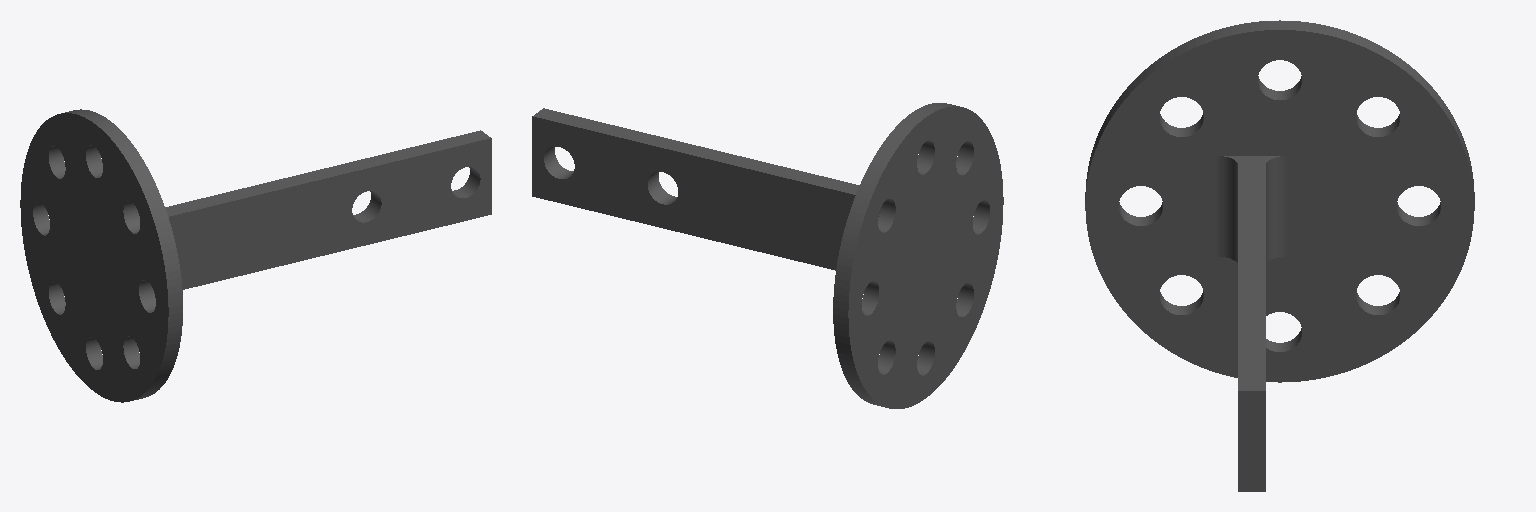
robot.urdf — iiwa14_camera:
<?xml version="1.0" ?>
<!-- =================================================================================== -->
<!-- |    This document was autogenerated by xacro from [local-path]/iiwa_stack_ws/src/iiwa_stack/iiwa_tesla/iiwa_tesla_description/urdf/iiwa14_camera.urdf.xacro | -->
<!-- |    EDITING THIS FILE BY HAND IS NOT RECOMMENDED                                 | -->
<!-- =================================================================================== -->
<robot name="iiwa14_camera">
    <material name="Black">
        <color rgba="0.0 0.0 0.0 1.0" />
    </material>
    <material name="Blue">
        <color rgba="0.0 0.0 0.8 1.0" />
    </material>
    <material name="Green">
        <color rgba="0.0 0.8 0.0 1.0" />
    </material>
    <material name="Grey">
        <color rgba="0.4 0.4 0.4 1.0" />
    </material>
    <material name="Orange">
        <color rgba="1.0 0.4235294117647059 0.0392156862745098 1.0" />
    </material>
    <material name="Brown">
        <color rgba="0.8705882352941177 0.8117647058823529 0.7647058823529411 1.0" />
    </material>
    <material name="Red">
        <color rgba="0.8 0.0 0.0 1.0" />
    </material>
    <material name="White">
        <color rgba="1.0 1.0 1.0 1.0" />
    </material>
    <!-- Fix to world just for testing -->
    <link name="world" />
    <!-- Gazebo world -->
    <gazebo reference="world">
        <static>true</static>
        <plugin name="gazebo_ros_control">
            <robotNamespace>/</robotNamespace>
        </plugin>
    </gazebo>
    <!--joint between {parent} and link_0-->
    <joint name="world_iiwa_joint" type="fixed">
        <origin rpy="0 0 0" xyz="0 0 0" />
        <parent link="world" />
        <child link="iiwa_link_0" />
    </joint>
    <link name="iiwa_link_0">
        <inertial>
            <origin rpy="0 0 0" xyz="-0.1 0 0.07" />
            <mass value="5" />
            <inertia ixx="0.05" ixy="0" ixz="0" iyy="0.06" iyz="0" izz="0.03" />
        </inertial>
        <visual>
            <origin rpy="0 0 0" xyz="0 0 0" />
            <geometry>
                <mesh filename="package://iiwa_tesla_description/meshes/iiwa14/visual/link_0.stl" />
            </geometry>
            <material name="Grey" />
        </visual>
        <collision>
            <origin rpy="0 0 0" xyz="0 0 0" />
            <geometry>
                <mesh filename="package://iiwa_tesla_description/meshes/iiwa14/collision/link_0.stl" />
            </geometry>
            <material name="Grey" />
        </collision>
        <self_collision_checking>
            <origin rpy="0 0 0" xyz="0 0 0" />
            <geometry>
                <capsule length="0.25" radius="0.15" />
            </geometry>
        </self_collision_checking>
    </link>
    <!-- joint between link_0 and link_1 -->
    <joint name="iiwa_joint_1" type="revolute">
        <parent link="iiwa_link_0" />
        <child link="iiwa_link_1" />
        <origin rpy="0 0 0" xyz="0 0 0.1575" />
        <axis xyz="0 0 1" />
        <limit effort="300" lower="-2.9670597283903604" upper="2.9670597283903604" velocity="10" />
        <safety_controller k_position="100" k_velocity="2" soft_lower_limit="-2.9321531433504737" soft_upper_limit="2.9321531433504737" />
        <dynamics damping="0.5" />
    </joint>
    <link name="iiwa_link_1">
        <inertial>
            <origin rpy="0 0 0" xyz="0 -0.03 0.12" />
            <mass value="4" />
            <inertia ixx="0.1" ixy="0" ixz="0" iyy="0.09" iyz="0" izz="0.02" />
        </inertial>
        <visual>
            <origin rpy="0 0 0" xyz="0 0 0" />
            <geometry>
                <mesh filename="package://iiwa_tesla_description/meshes/iiwa14/visual/link_1.stl" />
            </geometry>
            <material name="Orange" />
        </visual>
        <collision>
            <origin rpy="0 0 0" xyz="0 0 0" />
            <geometry>
                <mesh filename="package://iiwa_tesla_description/meshes/iiwa14/collision/link_1.stl" />
            </geometry>
            <material name="Orange" />
        </collision>
    </link>
    <!-- joint between link_1 and link_2 -->
    <joint name="iiwa_joint_2" type="revolute">
        <parent link="iiwa_link_1" />
        <child link="iiwa_link_2" />
        <origin rpy="1.5707963267948966   0 3.141592653589793" xyz="0 0 0.2025" />
        <axis xyz="0 0 1" />
        <limit effort="300" lower="-2.0943951023931953" upper="2.0943951023931953" velocity="10" />
        <safety_controller k_position="100" k_velocity="2" soft_lower_limit="-2.0594885173533086" soft_upper_limit="2.0594885173533086" />
        <dynamics damping="0.5" />
    </joint>
    <link name="iiwa_link_2">
        <inertial>
            <origin rpy="0 0 0" xyz="0.0003 0.059 0.042" />
            <mass value="4" />
            <inertia ixx="0.05" ixy="0" ixz="0" iyy="0.018" iyz="0" izz="0.044" />
        </inertial>
        <visual>
            <origin rpy="0 0 0" xyz="0 0 0" />
            <geometry>
                <mesh filename="package://iiwa_tesla_description/meshes/iiwa14/visual/link_2.stl" />
            </geometry>
            <material name="Orange" />
        </visual>
        <collision>
            <origin rpy="0 0 0" xyz="0 0 0" />
            <geometry>
                <mesh filename="package://iiwa_tesla_description/meshes/iiwa14/collision/link_2.stl" />
            </geometry>
            <material name="Orange" />
        </collision>
    </link>
    <!-- joint between link_2 and link_3 -->
    <joint name="iiwa_joint_3" type="revolute">
        <parent link="iiwa_link_2" />
        <child link="iiwa_link_3" />
        <origin rpy="1.5707963267948966 0 3.141592653589793" xyz="0 0.2045 0" />
        <axis xyz="0 0 1" />
        <limit effort="300" lower="-2.9670597283903604" upper="2.9670597283903604" velocity="10" />
        <safety_controller k_position="100" k_velocity="2" soft_lower_limit="-2.9321531433504737" soft_upper_limit="2.9321531433504737" />
        <dynamics damping="0.5" />
    </joint>
    <link name="iiwa_link_3">
        <inertial>
            <origin rpy="0 0 0" xyz="0 0.03 0.13" />
            <mass value="3" />
            <inertia ixx="0.08" ixy="0" ixz="0" iyy="0.075" iyz="0" izz="0.01" />
        </inertial>
        <visual>
            <origin rpy="0 0 0" xyz="0 0 0" />
            <geometry>
                <mesh filename="package://iiwa_tesla_description/meshes/iiwa14/visual/link_3.stl" />
            </geometry>
            <material name="Orange" />
        </visual>
        <collision>
            <origin rpy="0 0 0" xyz="0 0 0" />
            <geometry>
                <mesh filename="package://iiwa_tesla_description/meshes/iiwa14/collision/link_3.stl" />
            </geometry>
            <material name="Orange" />
        </collision>
    </link>
    <!-- joint between link_3 and link_4 -->
    <joint name="iiwa_joint_4" type="revolute">
        <parent link="iiwa_link_3" />
        <child link="iiwa_link_4" />
        <origin rpy="1.5707963267948966 0 0" xyz="0 0 0.2155" />
        <axis xyz="0 0 1" />
        <limit effort="300" lower="-2.0943951023931953" upper="2.0943951023931953" velocity="10" />
        <safety_controller k_position="100" k_velocity="2" soft_lower_limit="-2.0594885173533086" soft_upper_limit="2.0594885173533086" />
        <dynamics damping="0.5" />
    </joint>
    <link name="iiwa_link_4">
        <inertial>
            <origin rpy="0 0 0" xyz="0 0.067 0.034" />
            <mass value="2.7" />
            <inertia ixx="0.03" ixy="0" ixz="0" iyy="0.01" iyz="0" izz="0.029" />
        </inertial>
        <visual>
            <origin rpy="0 0 0" xyz="0 0 0" />
            <geometry>
                <mesh filename="package://iiwa_tesla_description/meshes/iiwa14/visual/link_4.stl" />
            </geometry>
            <material name="Orange" />
        </visual>
        <collision>
            <origin rpy="0 0 0" xyz="0 0 0" />
            <geometry>
                <mesh filename="package://iiwa_tesla_description/meshes/iiwa14/collision/link_4.stl" />
            </geometry>
            <material name="Orange" />
        </collision>
    </link>
    <!-- joint between link_4 and link_5 -->
    <joint name="iiwa_joint_5" type="revolute">
        <parent link="iiwa_link_4" />
        <child link="iiwa_link_5" />
        <origin rpy="-1.5707963267948966 3.141592653589793 0" xyz="0 0.1845 0" />
        <axis xyz="0 0 1" />
        <limit effort="300" lower="-2.9670597283903604" upper="2.9670597283903604" velocity="10" />
        <safety_controller k_position="100" k_velocity="2" soft_lower_limit="-2.9321531433504737" soft_upper_limit="2.9321531433504737" />
        <dynamics damping="0.5" />
    </joint>
    <link name="iiwa_link_5">
        <inertial>
            <origin rpy="0 0 0" xyz="0.0001 0.021 0.076" />
            <mass value="1.7" />
            <inertia ixx="0.02" ixy="0" ixz="0" iyy="0.018" iyz="0" izz="0.005" />
        </inertial>
        <visual>
            <origin rpy="0 0 0" xyz="0 0 0" />
            <geometry>
                <mesh filename="package://iiwa_tesla_description/meshes/iiwa14/visual/link_5.stl" />
            </geometry>
            <material name="Orange" />
        </visual>
        <collision>
            <origin rpy="0 0 0" xyz="0 0 0" />
            <geometry>
                <mesh filename="package://iiwa_tesla_description/meshes/iiwa14/collision/link_5.stl" />
            </geometry>
            <material name="Orange" />
        </collision>
    </link>
    <!-- joint between link_5 and link_6 -->
    <joint name="iiwa_joint_6" type="revolute">
        <parent link="iiwa_link_5" />
        <child link="iiwa_link_6" />
        <origin rpy="1.5707963267948966 0 0" xyz="0 0 0.2155" />
        <axis xyz="0 0 1" />
        <limit effort="300" lower="-2.0943951023931953" upper="2.0943951023931953" velocity="10" />
        <safety_controller k_position="100" k_velocity="2" soft_lower_limit="-2.0594885173533086" soft_upper_limit="2.0594885173533086" />
        <dynamics damping="0.5" />
    </joint>
    <link name="iiwa_link_6">
        <inertial>
            <origin rpy="0 0 0" xyz="0 0.0006 0.0004" />
            <mass value="1.8" />
            <inertia ixx="0.005" ixy="0" ixz="0" iyy="0.0036" iyz="0" izz="0.0047" />
        </inertial>
        <visual>
            <origin rpy="0 0 0" xyz="0 0 0" />
            <geometry>
                <mesh filename="package://iiwa_tesla_description/meshes/iiwa14/visual/link_6.stl" />
            </geometry>
            <material name="Orange" />
        </visual>
        <collision>
            <origin rpy="0 0 0" xyz="0 0 0" />
            <geometry>
                <mesh filename="package://iiwa_tesla_description/meshes/iiwa14/collision/link_6.stl" />
            </geometry>
            <material name="Orange" />
        </collision>
    </link>
    <!-- joint between link_6 and link_7 -->
    <joint name="iiwa_joint_7" type="revolute">
        <parent link="iiwa_link_6" />
        <child link="iiwa_link_7" />
        <origin rpy="-1.5707963267948966 3.141592653589793 0" xyz="0 0.081 0" />
        <axis xyz="0 0 1" />
        <limit effort="300" lower="-3.0543261909900763" upper="3.0543261909900763" velocity="10" />
        <safety_controller k_position="100" k_velocity="2" soft_lower_limit="-3.01941960595019" soft_upper_limit="3.01941960595019" />
        <dynamics damping="0.5" />
    </joint>
    <link name="iiwa_link_7">
        <inertial>
            <origin rpy="0 0 0" xyz="0 0 0.02" />
            <mass value="0.3" />
            <inertia ixx="0.001" ixy="0" ixz="0" iyy="0.001" iyz="0" izz="0.001" />
        </inertial>
        <visual>
            <origin rpy="0 0 0" xyz="0 0 0" />
            <geometry>
                <mesh filename="package://iiwa_tesla_description/meshes/iiwa14/visual/link_7.stl" />
            </geometry>
            <material name="Grey" />
        </visual>
        <collision>
            <origin rpy="0 0 0" xyz="0 0 0" />
            <geometry>
                <mesh filename="package://iiwa_tesla_description/meshes/iiwa14/collision/link_7.stl" />
            </geometry>
            <material name="Grey" />
        </collision>
    </link>
    <joint name="iiwa_joint_ee" type="fixed">
        <parent link="iiwa_link_7" />
        <child link="iiwa_link_ee" />
        <origin rpy="0 0 0" xyz="0 0 0.045" />
    </joint>
    <link name="iiwa_link_ee" />
    <!-- Enable the Joint Feedback -->
    <gazebo reference="iiwa_joint_7">
        <provideFeedback>true</provideFeedback>
    </gazebo>
    <!-- The ft_sensor plugin -->
    <gazebo>
        <plugin filename="libgazebo_ros_ft_sensor.so" name="ft_sensor">
            <updateRate>50.0</updateRate>
            <topicName>/iiwa/state/CartesianWrench</topicName>
            <jointName>iiwa_joint_7</jointName>
        </plugin>
    </gazebo>
    <!-- Load Gazebo lib and set the robot namespace -->
    <gazebo>
        <plugin filename="libgazebo_ros_control.so" name="gazebo_ros_control">
            <robotNamespace>/iiwa</robotNamespace>
        </plugin>
    </gazebo>
    <!-- Link0 -->
    <gazebo reference="iiwa_link_0">
        <material>Gazebo/Grey</material>
        <mu1>0.2</mu1>
        <mu2>0.2</mu2>
    </gazebo>
    <!-- Link1 -->
    <gazebo reference="iiwa_link_1">
        <material>Gazebo/Orange</material>
        <mu1>0.2</mu1>
        <mu2>0.2</mu2>
    </gazebo>
    <!-- Link2 -->
    <gazebo reference="iiwa_link_2">
        <material>Gazebo/Orange</material>
        <mu1>0.2</mu1>
        <mu2>0.2</mu2>
    </gazebo>
    <!-- Link3 -->
    <gazebo reference="iiwa_link_3">
        <material>Gazebo/Orange</material>
        <mu1>0.2</mu1>
        <mu2>0.2</mu2>
    </gazebo>
    <!-- Link4 -->
    <gazebo reference="iiwa_link_4">
        <material>Gazebo/Orange</material>
        <mu1>0.2</mu1>
        <mu2>0.2</mu2>
    </gazebo>
    <!-- Link5 -->
    <gazebo reference="iiwa_link_5">
        <material>Gazebo/Orange</material>
        <mu1>0.2</mu1>
        <mu2>0.2</mu2>
    </gazebo>
    <!-- Link6 -->
    <gazebo reference="iiwa_link_6">
        <material>Gazebo/Orange</material>
        <mu1>0.2</mu1>
        <mu2>0.2</mu2>
    </gazebo>
    <!-- Link7 -->
    <gazebo reference="iiwa_link_7">
        <material>Gazebo/Grey</material>
        <mu1>0.2</mu1>
        <mu2>0.2</mu2>
    </gazebo>
    <transmission name="iiwa_tran_1">
        <robotNamespace>/iiwa</robotNamespace>
        <type>transmission_interface/SimpleTransmission</type>
        <joint name="iiwa_joint_1">
            <hardwareInterface>hardware_interface/PositionJointInterface</hardwareInterface>
        </joint>
        <actuator name="iiwa_motor_1">
            <hardwareInterface>hardware_interface/PositionJointInterface</hardwareInterface>
            <mechanicalReduction>1</mechanicalReduction>
        </actuator>
    </transmission>
    <transmission name="iiwa_tran_2">
        <robotNamespace>/iiwa</robotNamespace>
        <type>transmission_interface/SimpleTransmission</type>
        <joint name="iiwa_joint_2">
            <hardwareInterface>hardware_interface/PositionJointInterface</hardwareInterface>
        </joint>
        <actuator name="iiwa_motor_2">
            <hardwareInterface>hardware_interface/PositionJointInterface</hardwareInterface>
            <mechanicalReduction>1</mechanicalReduction>
        </actuator>
    </transmission>
    <transmission name="iiwa_tran_3">
        <robotNamespace>/iiwa</robotNamespace>
        <type>transmission_interface/SimpleTransmission</type>
        <joint name="iiwa_joint_3">
            <hardwareInterface>hardware_interface/PositionJointInterface</hardwareInterface>
        </joint>
        <actuator name="iiwa_motor_3">
            <hardwareInterface>hardware_interface/PositionJointInterface</hardwareInterface>
            <mechanicalReduction>1</mechanicalReduction>
        </actuator>
    </transmission>
    <transmission name="iiwa_tran_4">
        <robotNamespace>/iiwa</robotNamespace>
        <type>transmission_interface/SimpleTransmission</type>
        <joint name="iiwa_joint_4">
            <hardwareInterface>hardware_interface/PositionJointInterface</hardwareInterface>
        </joint>
        <actuator name="iiwa_motor_4">
            <hardwareInterface>hardware_interface/PositionJointInterface</hardwareInterface>
            <mechanicalReduction>1</mechanicalReduction>
        </actuator>
    </transmission>
    <transmission name="iiwa_tran_5">
        <robotNamespace>/iiwa</robotNamespace>
        <type>transmission_interface/SimpleTransmission</type>
        <joint name="iiwa_joint_5">
            <hardwareInterface>hardware_interface/PositionJointInterface</hardwareInterface>
        </joint>
        <actuator name="iiwa_motor_5">
            <hardwareInterface>hardware_interface/PositionJointInterface</hardwareInterface>
            <mechanicalReduction>1</mechanicalReduction>
        </actuator>
    </transmission>
    <transmission name="iiwa_tran_6">
        <robotNamespace>/iiwa</robotNamespace>
        <type>transmission_interface/SimpleTransmission</type>
        <joint name="iiwa_joint_6">
            <hardwareInterface>hardware_interface/PositionJointInterface</hardwareInterface>
        </joint>
        <actuator name="iiwa_motor_6">
            <hardwareInterface>hardware_interface/PositionJointInterface</hardwareInterface>
            <mechanicalReduction>1</mechanicalReduction>
        </actuator>
    </transmission>
    <transmission name="iiwa_tran_7">
        <robotNamespace>/iiwa</robotNamespace>
        <type>transmission_interface/SimpleTransmission</type>
        <joint name="iiwa_joint_7">
            <hardwareInterface>hardware_interface/PositionJointInterface</hardwareInterface>
        </joint>
        <actuator name="iiwa_motor_7">
            <hardwareInterface>hardware_interface/PositionJointInterface</hardwareInterface>
            <mechanicalReduction>1</mechanicalReduction>
        </actuator>
    </transmission>
    <!-- camera properties -->
    <!-- link offset 10cm -->
    <property name="camera_mass" value="0.250" />
    <property name="camera_joint_offset" value="0.00 0.00 0.00" />
    <property name="camera_link_offset" value="0.00 0.00 0.10" />
    <joint name="camera_joint" type="fixed">
        <parent link="iiwa_link_ee" />
        <child link="camera_link" />
        <origin rpy="0 1.5707963267948966 0" xyz="0 0 0" />
    </joint>
    <!-- geometry of the camera -->
    <link name="camera_link">
        <visual>
            <origin rpy="0 0 0" xyz="0 0 0" />
            <geometry>
                <mesh filename="package://iiwa_tesla_description/meshes/iiwa14/visual/camera.stl" />
            </geometry>
            <material name="Grey" />
        </visual>
        <collision>
            <origin rpy="0 0 0" xyz="0 0 0" />
            <geometry>
                <mesh filename="package://iiwa_tesla_description/meshes/iiwa14/visual/camera.stl" />
            </geometry>
            <material name="Grey" />
        </collision>
        <inertial>
            <mass value="0.1" />
            <origin xyz="0 0 0" rpy="0 0 0" />
            <inertia ixx="0.03" iyy="0.03" izz="0.03" ixy="0.0" ixz="0.0" iyz="0.0" />
        </inertial>
    </link>
    <!-- dummy joint at the end of camera to attach frames -->
    <joint name="camera_tip_joint" type="fixed">
        <parent link="camera_link" />
        <child link="camera_link_ee" />
        <origin rpy="0 0 0" xyz="0 0 0.10" />
    </joint>
    <!-- TCP frame -->
    <link name="camera_link_ee" />
</robot>

--- Facts derived from the render (not from the file) ---
Views: 3 orthographic renders of the robot side by side, from view 1: azimuth 30°, elevation 25°; view 2: azimuth 150°, elevation 25°; view 3: azimuth 270°, elevation 25°.
Model iiwa14_camera with 12 links and 11 joints (7 revolute, 4 fixed), rooted at world, posed all joints at 0.
Visible links, largest first — view 1: camera_link; view 2: camera_link; view 3: camera_link.
Boxes of the visible links, left/top/right/bottom form: camera_link: left=20, top=109, right=491, bottom=402; camera_link: left=532, top=103, right=1003, bottom=408; camera_link: left=1085, top=20, right=1474, bottom=491.
Bounding box of the posed robot: 0.104 × 0.07 × 0.07 m (x, y, z).
Meshes: 9 distinct files referenced, 1 mesh visuals loaded (1 binary STL); not drawn: 8 (reference not matched to a file when rendering).